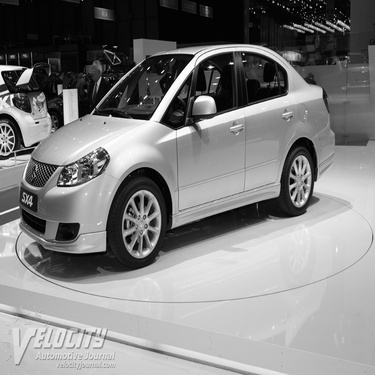car: (18, 45, 338, 267), (1, 64, 47, 157)
